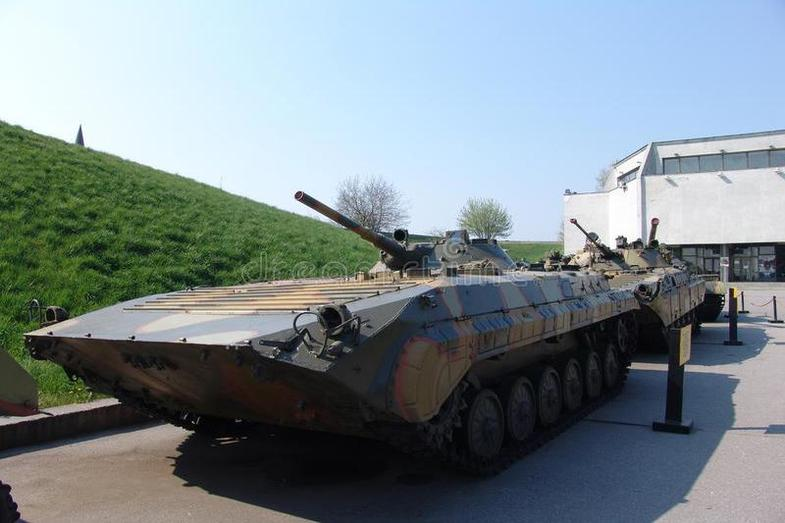bmp: (28, 218, 623, 458)
